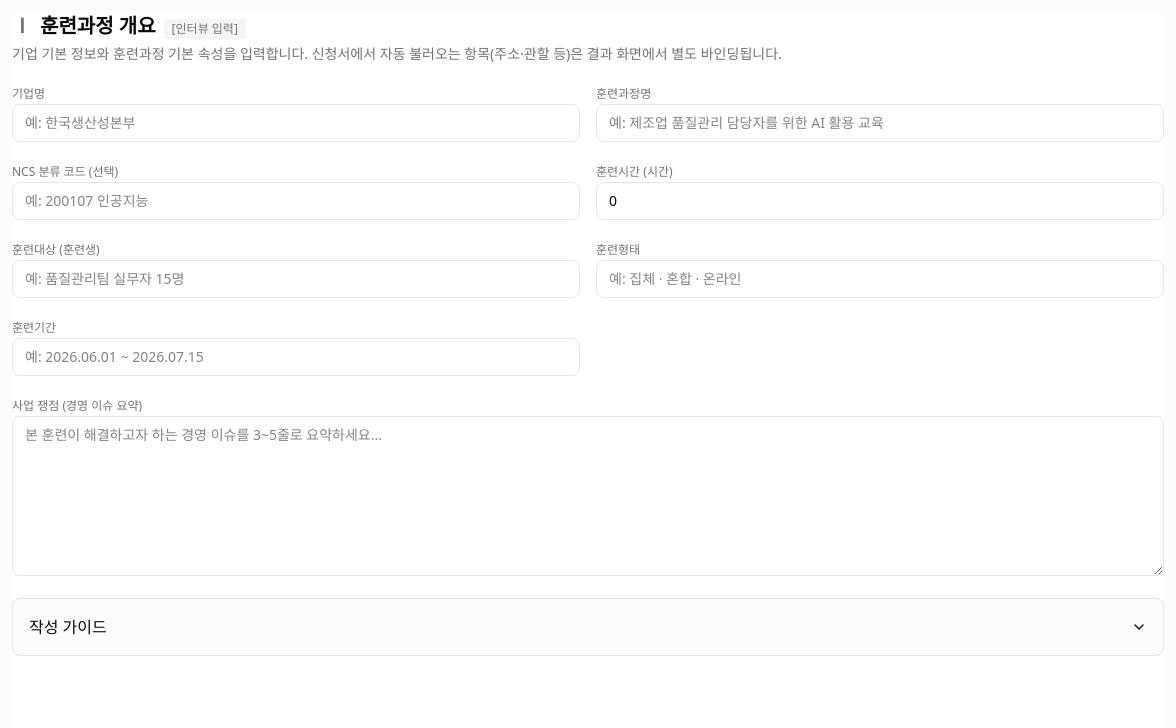
StepOverview › 작성 가이드 헤더(PBL 정본 라벨)와 정본 ☞ 원문을 표시한다
This screenshot has width=1176, height=728.
Click the button "작성 가이드" at (68, 627), box x1=29 y1=599 x2=1147 y2=655
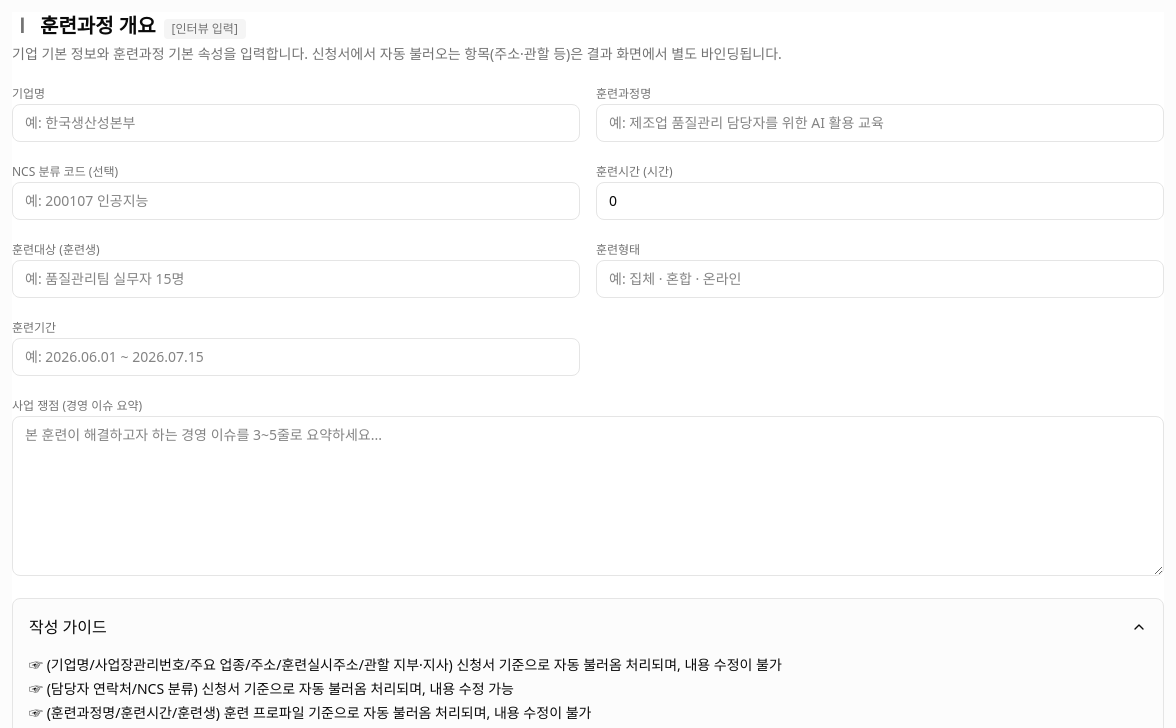
expect the list item "☞ (기업명/사업장관리번호/주요 업종/주소/훈련실시주소/관할 지부·지사) 신청서 기준으로 자동 불러옴 처리되며, 내용 수정이 불가" is shown: met, box x1=29 y1=655 x2=782 y2=674
